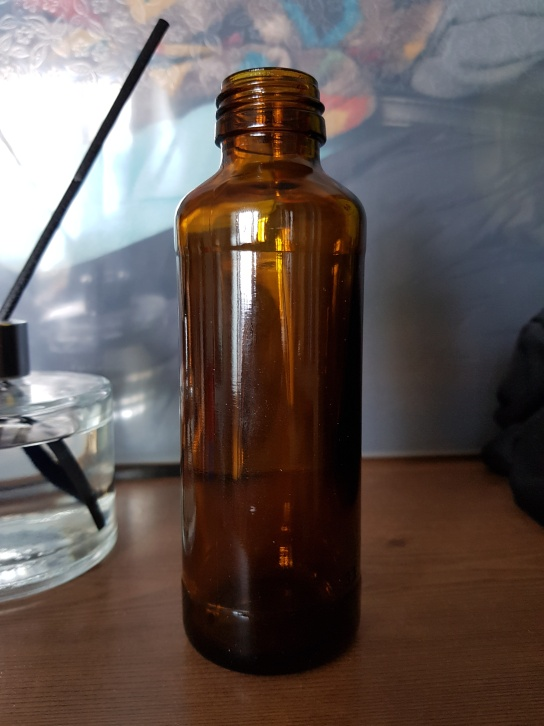Glass: (168, 60, 370, 677)
